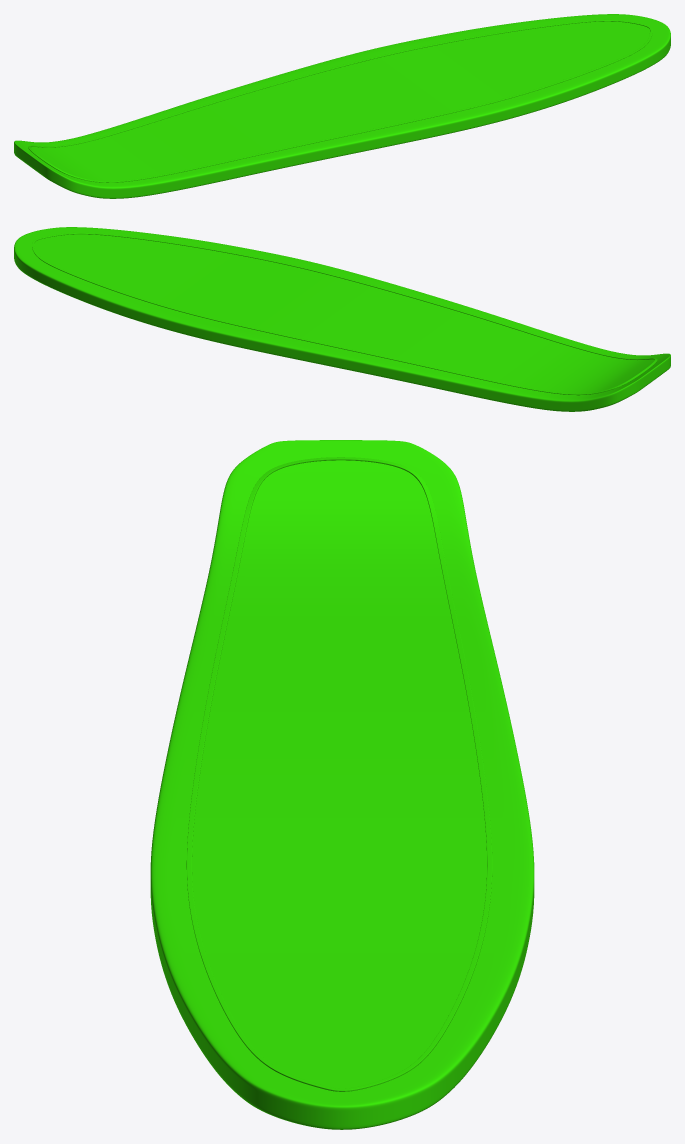
File: SkateBoard.fbx
3 renders of one model, top to bottom at view 1: azimuth 30°, elevation 25°; view 2: azimuth 150°, elevation 25°; view 3: azimuth 270°, elevation 25°, orthographic. The views are drawn at different scales.
Visible parts, largest first — view 1: Plane.005, Plane, Plane.006; view 2: Plane.005, Plane, Plane.006; view 3: Plane.005, Plane, Plane.006.
Boxes of the visible parts, x1,y1,x2,y2 form: Plane.005: (30,21,650,182); Plane: (14,14,670,198); Plane.006: (28,19,652,182); Plane.005: (34,234,654,395); Plane: (14,227,670,411); Plane.006: (32,232,657,395); Plane.005: (187,460,490,1091); Plane: (150,440,534,1129); Plane.006: (186,457,492,1091).
Size of the model in its own units: 559 by 37.52 by 146.
